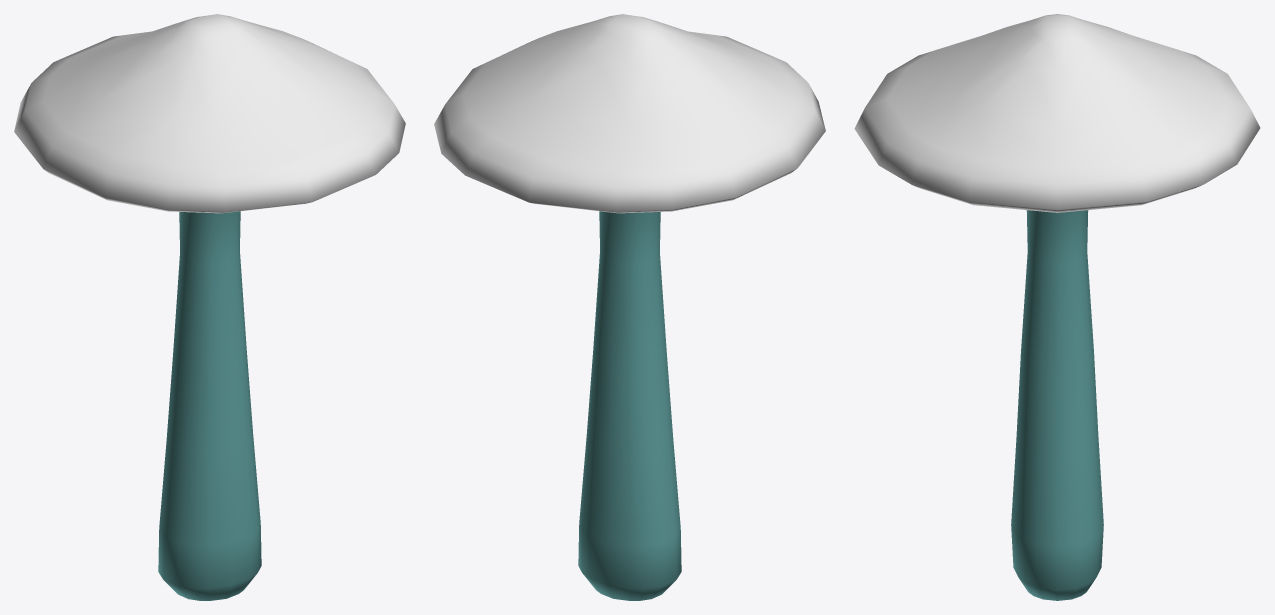
File: Set1.Mushroom01.dae
3 renders of one model, left to right at view 1: azimuth 30°, elevation 25°; view 2: azimuth 150°, elevation 25°; view 3: azimuth 270°, elevation 25°, orthographic.
Visible parts, largest first — view 1: Cube; view 2: Cube; view 3: Cube.
Boxes of the visible parts, <box> form: Cube: <box>14,14,405,600</box>; Cube: <box>434,14,825,600</box>; Cube: <box>854,14,1260,600</box>.
Bounding box in the file's own units: 4.81 × 5.08 × 7.83.
